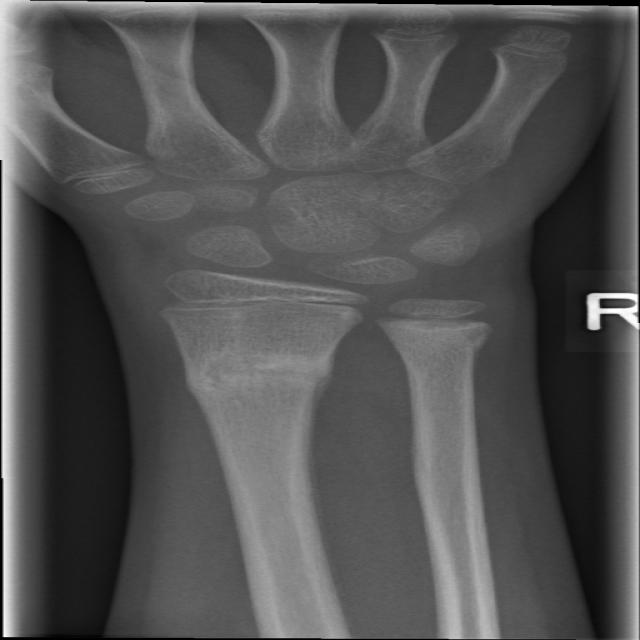radius fracture: (161, 326, 361, 426)
